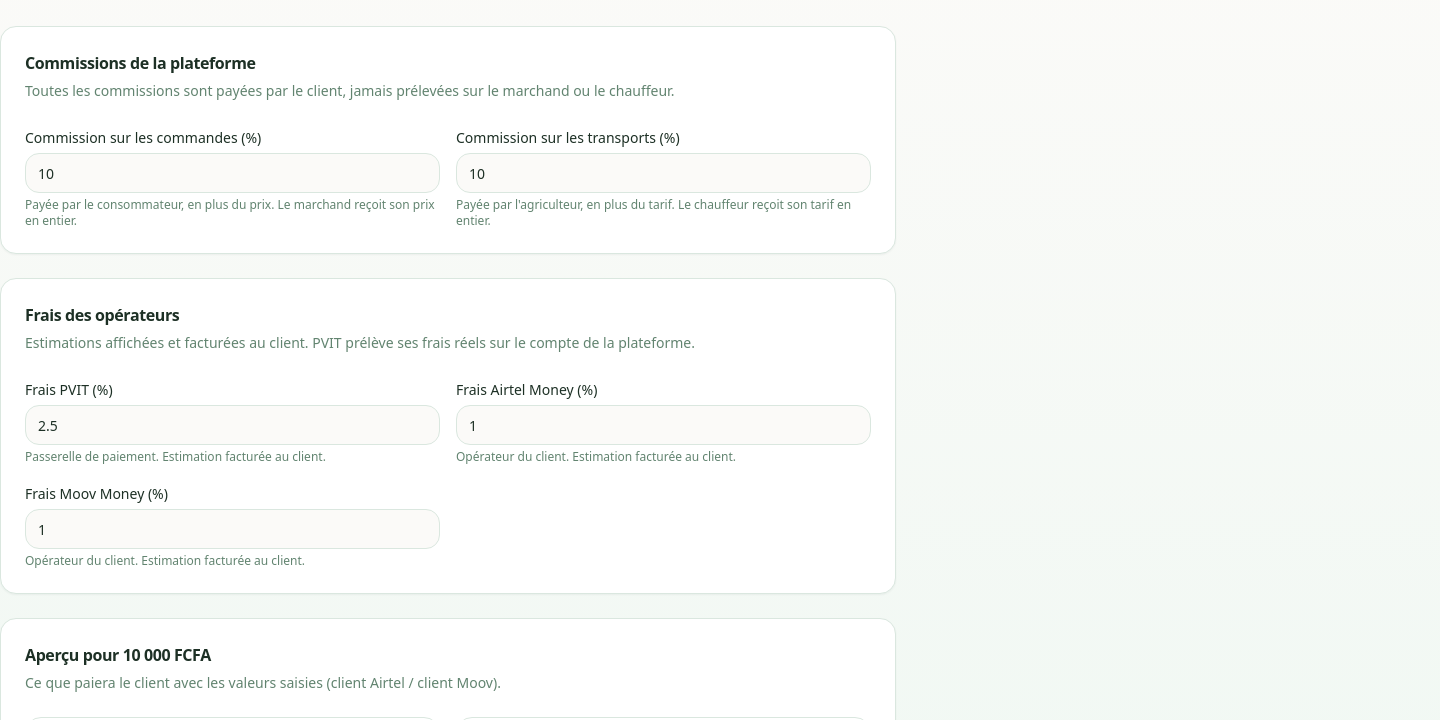
Test: AdminFeesPage › updates the preview as the admin types, before saving
Replace the text in the field labelled "Frais PVIT (%)" with "3": (232, 425) top-left (25, 405), bottom-right (440, 445)
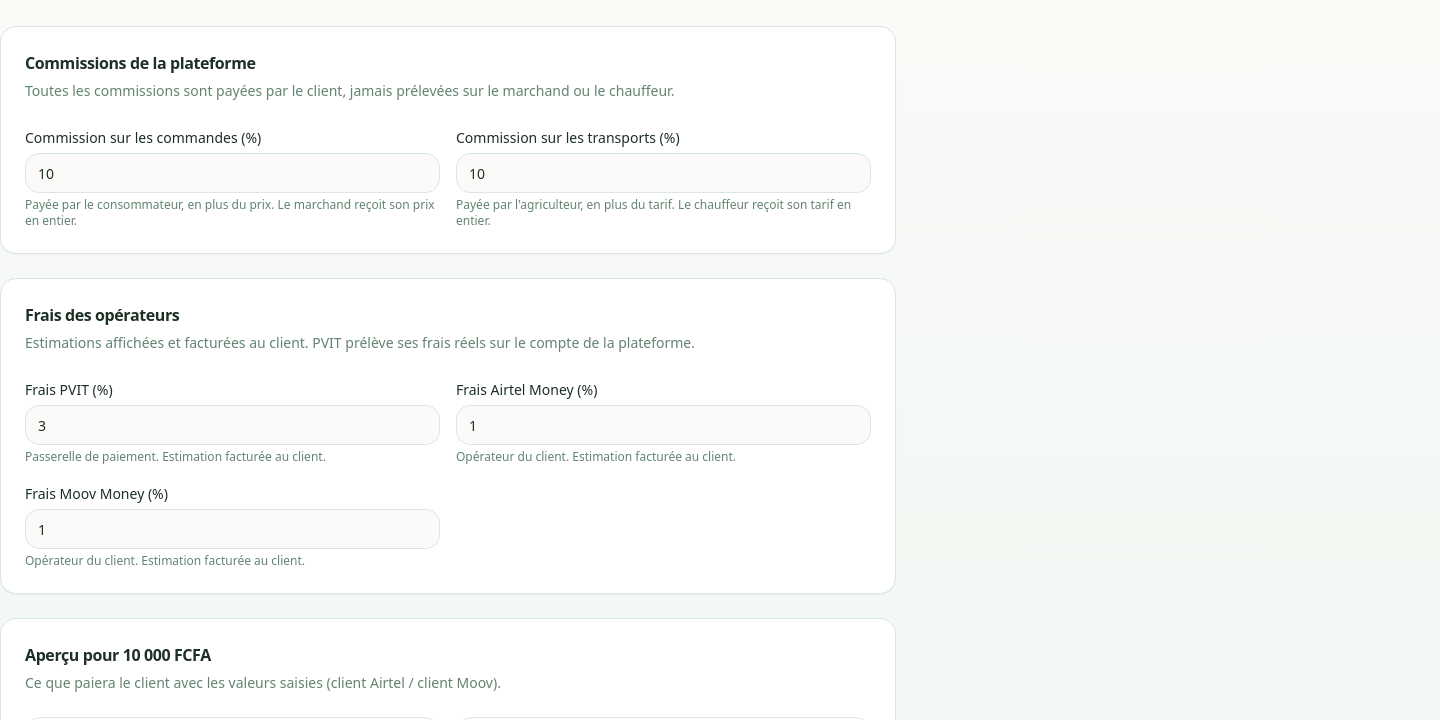
Replace the text in the field with id "moov_fee_rate" with "2": (232, 529) top-left (25, 509), bottom-right (440, 549)
(page scrolled)
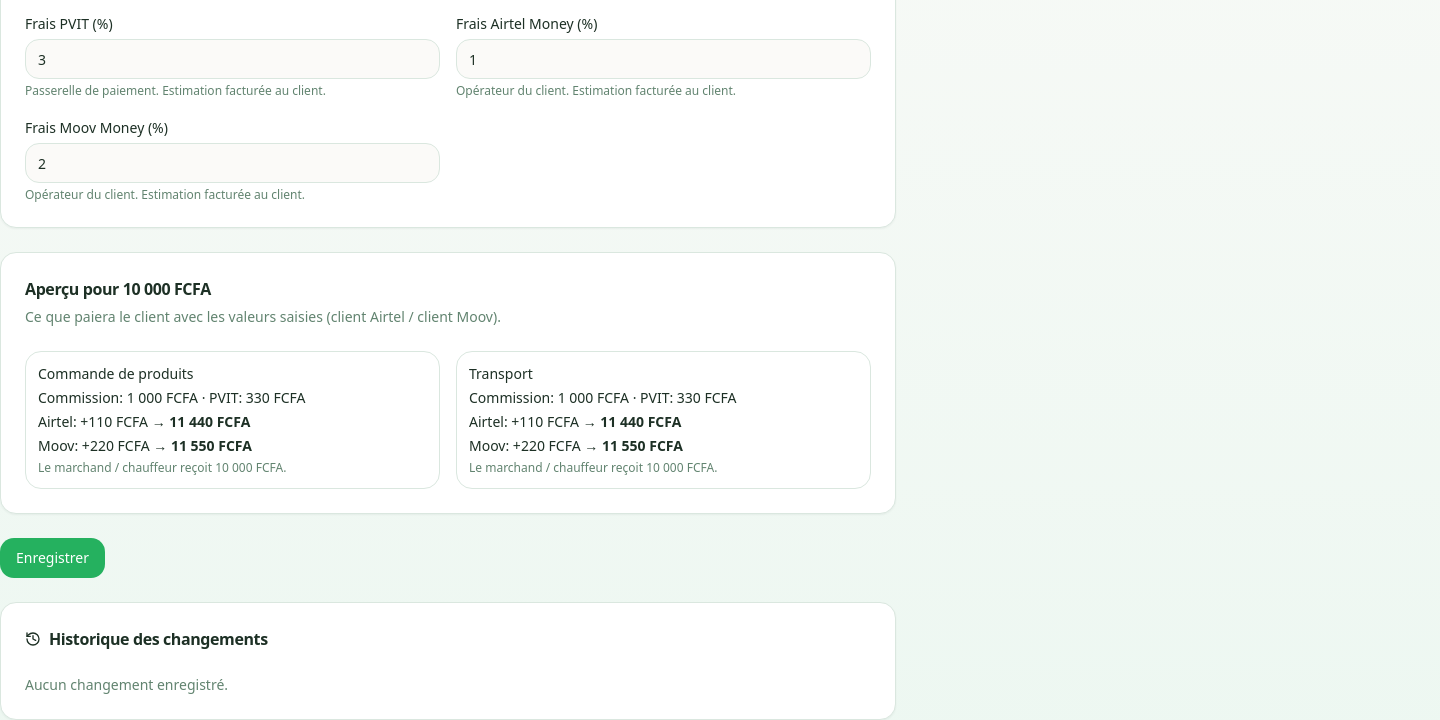
Result: the text with test id "preview-transport-moov" reads "11 550 FCFA" at top-left (602, 436), bottom-right (683, 455)
